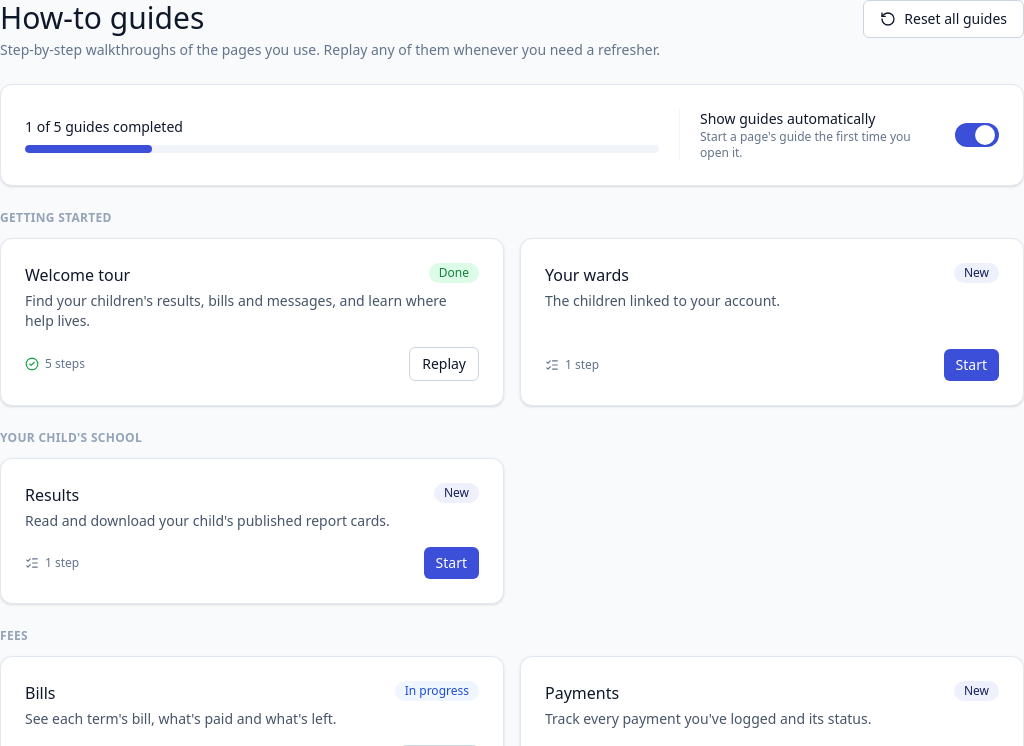
it: HowToGuidesPage › resets every guide after confirming
Click the button "Reset all guides" at coordinates (944, 19), box [863,0,1023,38]
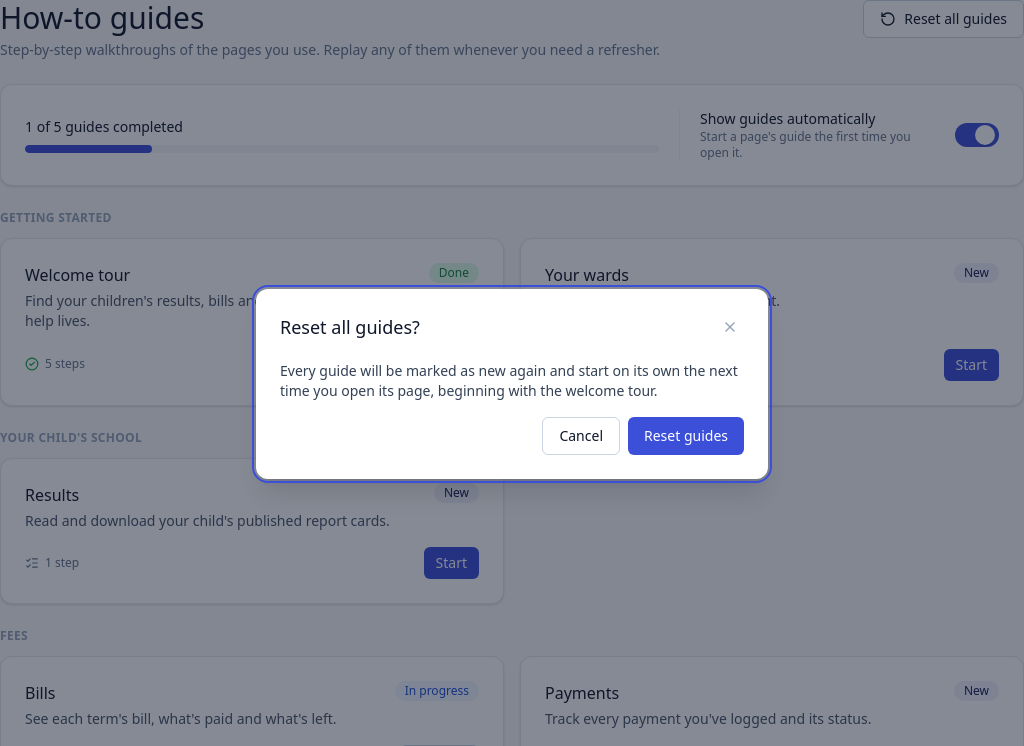
Click the button "Reset guides" at coordinates (686, 436), box [628,417,744,455]
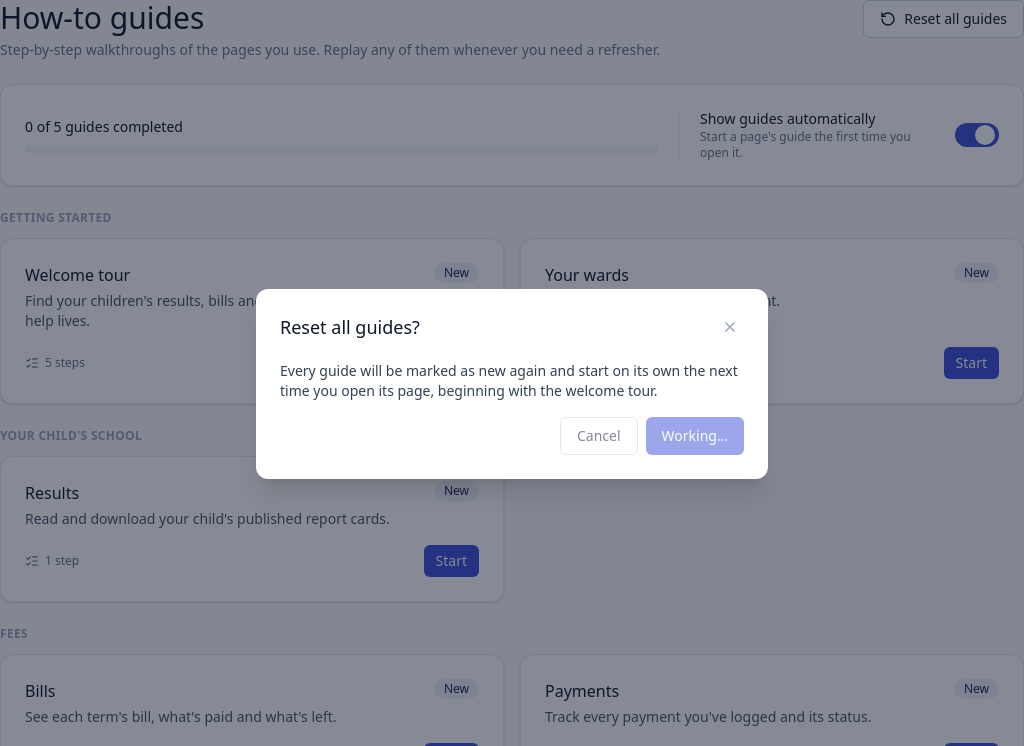
Now the text "0 of 5 guides completed" is shown, box [25,117,183,136]
